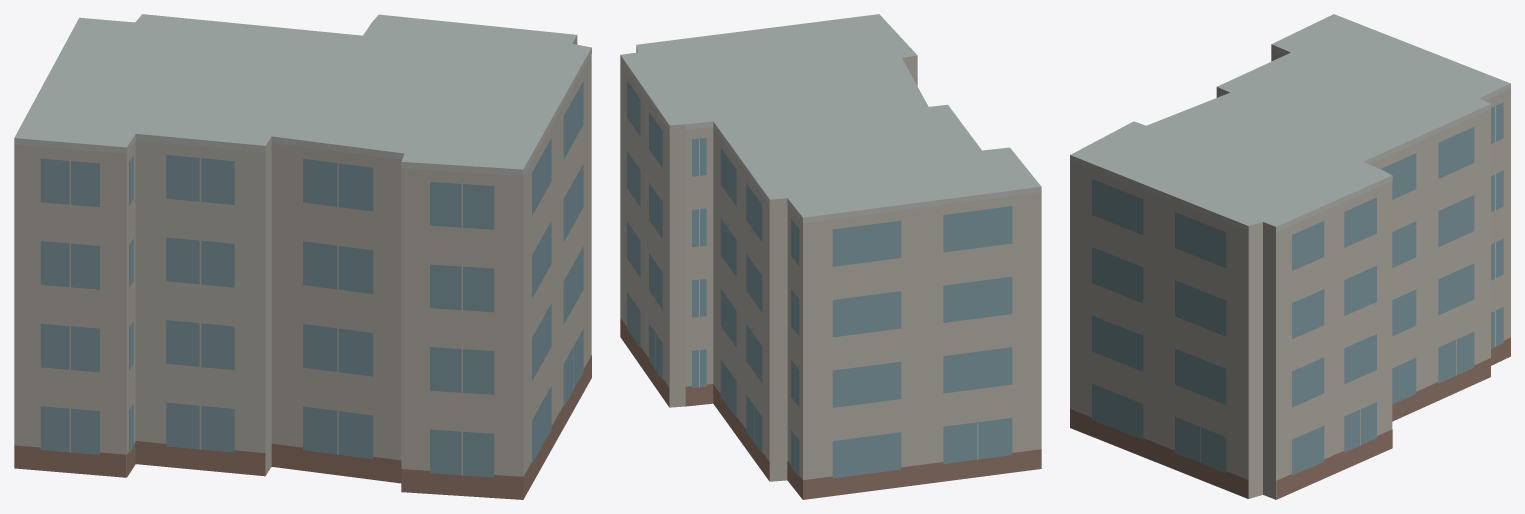
File: survey-upis-32580241.glb
3 views of the same model, side by side, from view 1: azimuth 30°, elevation 25°; view 2: azimuth 150°, elevation 25°; view 3: azimuth 270°, elevation 25° (orthographic). The views are drawn at different scales.
Visible parts, largest first — view 1: survey-upis-32580241.tmp; view 2: survey-upis-32580241.tmp; view 3: survey-upis-32580241.tmp.
Boxes of the visible parts, box(x1,y1,x2,y2) form: survey-upis-32580241.tmp: box(14, 14, 591, 499); survey-upis-32580241.tmp: box(620, 14, 1041, 499); survey-upis-32580241.tmp: box(1070, 14, 1510, 499).
Bounding box in the file's own units: 20.92 × 12.5 × 18.3.
